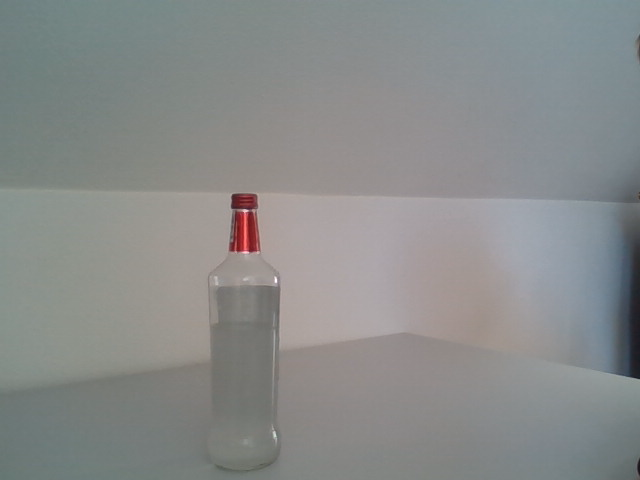bottle: (206, 192, 283, 473)
